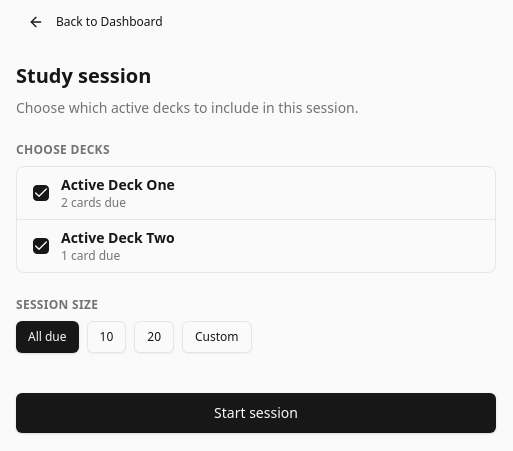
Test: StudySessionPage global start screen › DECK-03d: Start session button is disabled when all decks unchecked
The width and height of the screenshot is (513, 451).
Expected: the text "Active Deck One" is shown, [61,175,175,194]
Expected: the text "Active Deck Two" is shown, [61,228,175,247]
// Uncheck both decks by clicking each row
Click the text "Active Deck One".
click(118, 193)  # box [61,175,175,211]
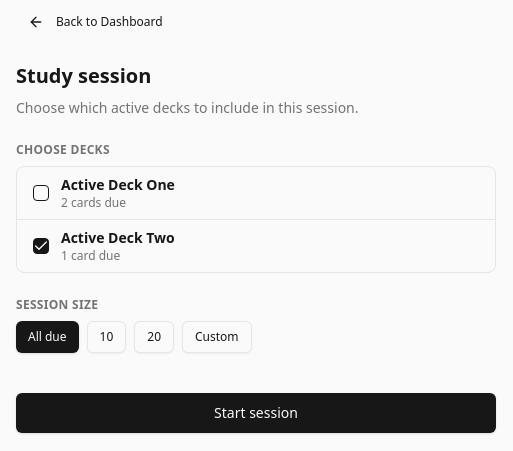
Click the text "Active Deck Two".
click(118, 246)  # box [61,228,175,264]
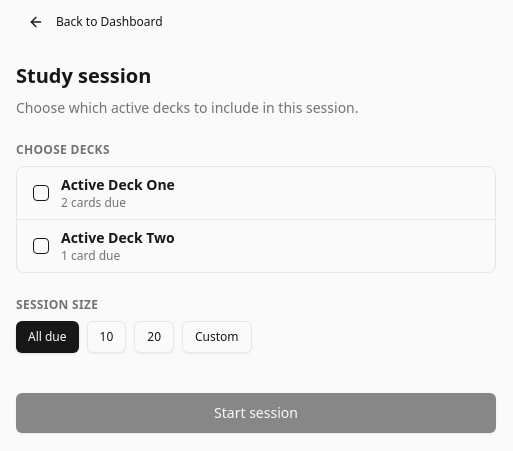
Result: the button "Start session" is disabled at [16,393,496,433]
